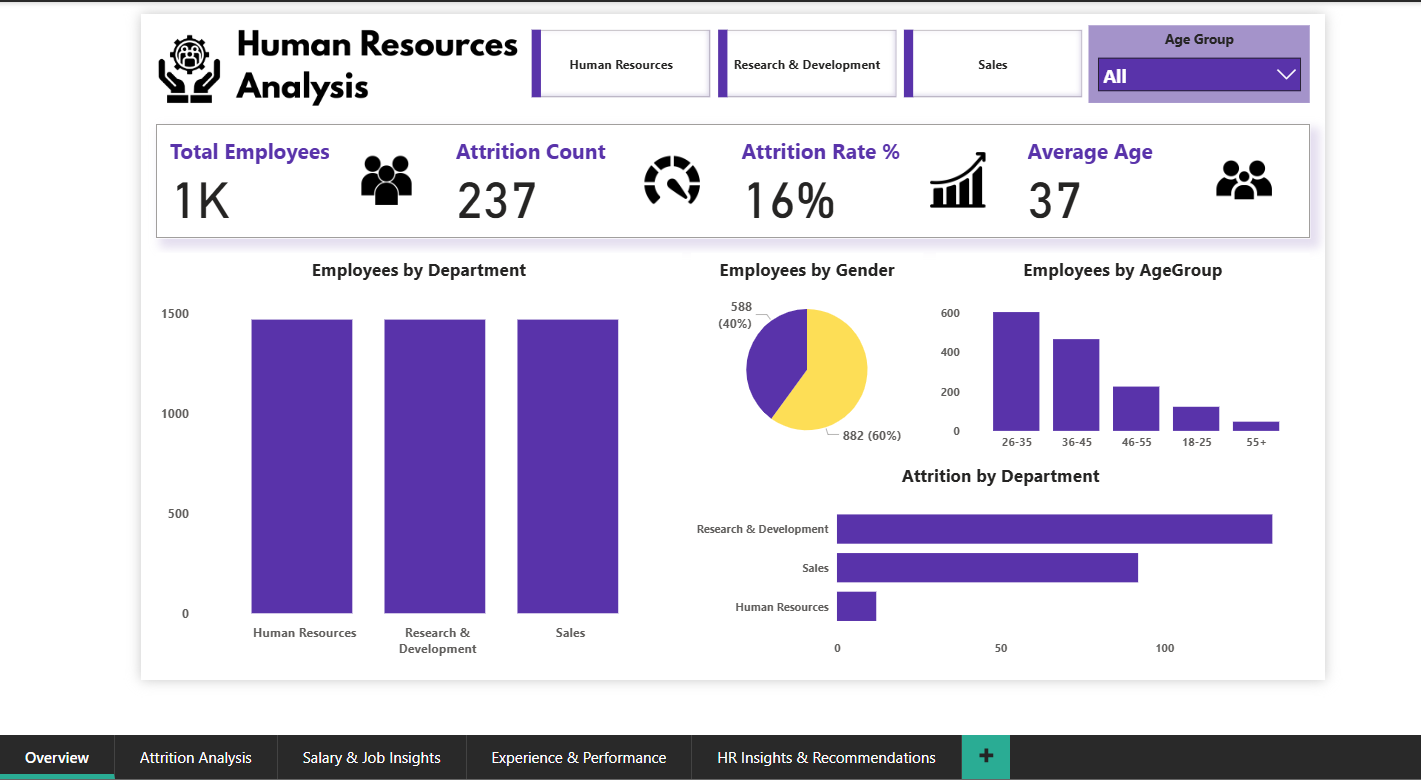

This screenshot's page, from the dashboard's own definition file:
{"tool":"powerbi","page":{"name":"Overview","canvas":[1280,720],"ordinal":0},"visuals":[{"type":"cardVisual","fields":{"Data":["Employees.Total_Employess","Performance.Attrition Count","Performance.Attrition Rate %","Employees.Average Age"]},"box":[15.9,118.3,1248,124.1],"z":0},{"type":"clusteredColumnChart","title":"Employees by Department","fields":{"Category":["Job_Details.Department"],"Y":["Employees.Total Employees"]},"box":[15.9,258.3,568.4,444.4],"z":1000},{"type":"pieChart","title":"Employees by Gender","fields":{"Y":["Employees.Total Employees"],"Category":["Employees.Gender"]},"box":[594.4,258.3,251,222.2],"z":2000},{"type":"clusteredColumnChart","title":"Employees by AgeGroup","fields":{"Category":["Employees.AgeGroup"],"Y":["Employees.Total Employees"]},"box":[859.9,258.3,404,222.2],"z":3000},{"type":"clusteredBarChart","title":"Attrition by Department","fields":{"Category":["Job_Details.Department"],"Y":["Performance.Attrition Count"]},"box":[594.4,480.4,669.4,222.2],"z":4000},{"type":"advancedSlicerVisual","fields":{"Values":["Job_Details.Department"]},"box":[417,11.5,607.4,83.7],"z":5000},{"type":"slicer","title":"Age Group","fields":{"Values":["Job_Details.JobRole"]},"box":[1024.4,11.5,239.5,83.7],"z":6000}]}

Visuals, with their boxes on the page's 1280x720 design canvas (x1, y1, x2, y2). These are canvas units, not pixel positions in the 1421x780 screenshot, which may show the page scaled, cropped or inside an application window:
cardVisual - Employees.Total_Employess x Performance.Attrition Count: bbox=(16, 118, 1264, 242)
"Employees by Department" clusteredColumnChart: bbox=(16, 258, 584, 703)
"Employees by Gender" pieChart: bbox=(594, 258, 845, 480)
"Employees by AgeGroup" clusteredColumnChart: bbox=(860, 258, 1264, 480)
"Attrition by Department" clusteredBarChart: bbox=(594, 480, 1264, 703)
advancedSlicerVisual - Job_Details.Department: bbox=(417, 12, 1024, 95)
"Age Group" slicer: bbox=(1024, 12, 1264, 95)
